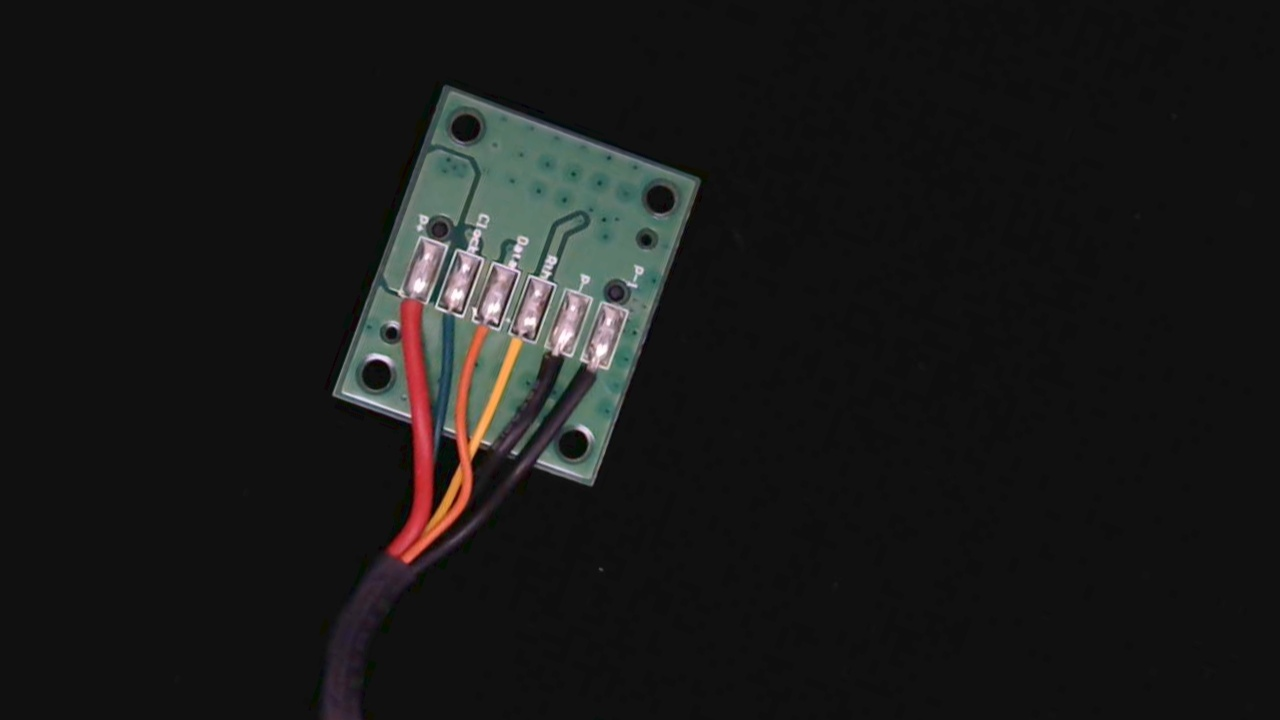Black: (522, 335, 576, 409)
Black1: (562, 347, 613, 417)
Green: (419, 291, 470, 357)
Orange: (451, 306, 504, 381)
Red: (381, 278, 434, 345)
Yellow: (484, 319, 542, 394)
